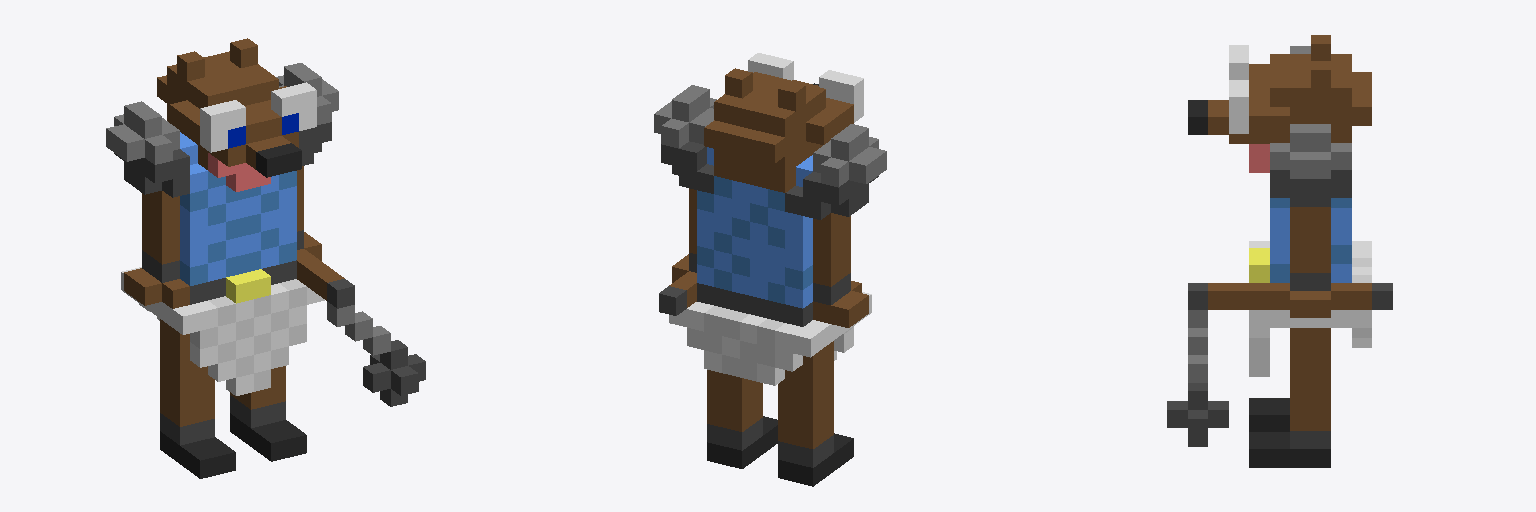
The picture shows the model from 3 angles: view 1: azimuth 30°, elevation 25°; view 2: azimuth 150°, elevation 25°; view 3: azimuth 270°, elevation 25°; orthographic projection.
Parts seen in each view (by area): view 1: gnoll_maroder; view 2: gnoll_maroder; view 3: gnoll_maroder.
Boxes of the visible parts, x1=… form: gnoll_maroder: x1=106, y1=38, x2=425, y2=478; gnoll_maroder: x1=654, y1=53, x2=886, y2=486; gnoll_maroder: x1=1167, y1=35, x2=1392, y2=467.
Bounding box in the file's own units: 1.4 × 2.1 × 1.1.
Materials: 1 (1 with a texture image).